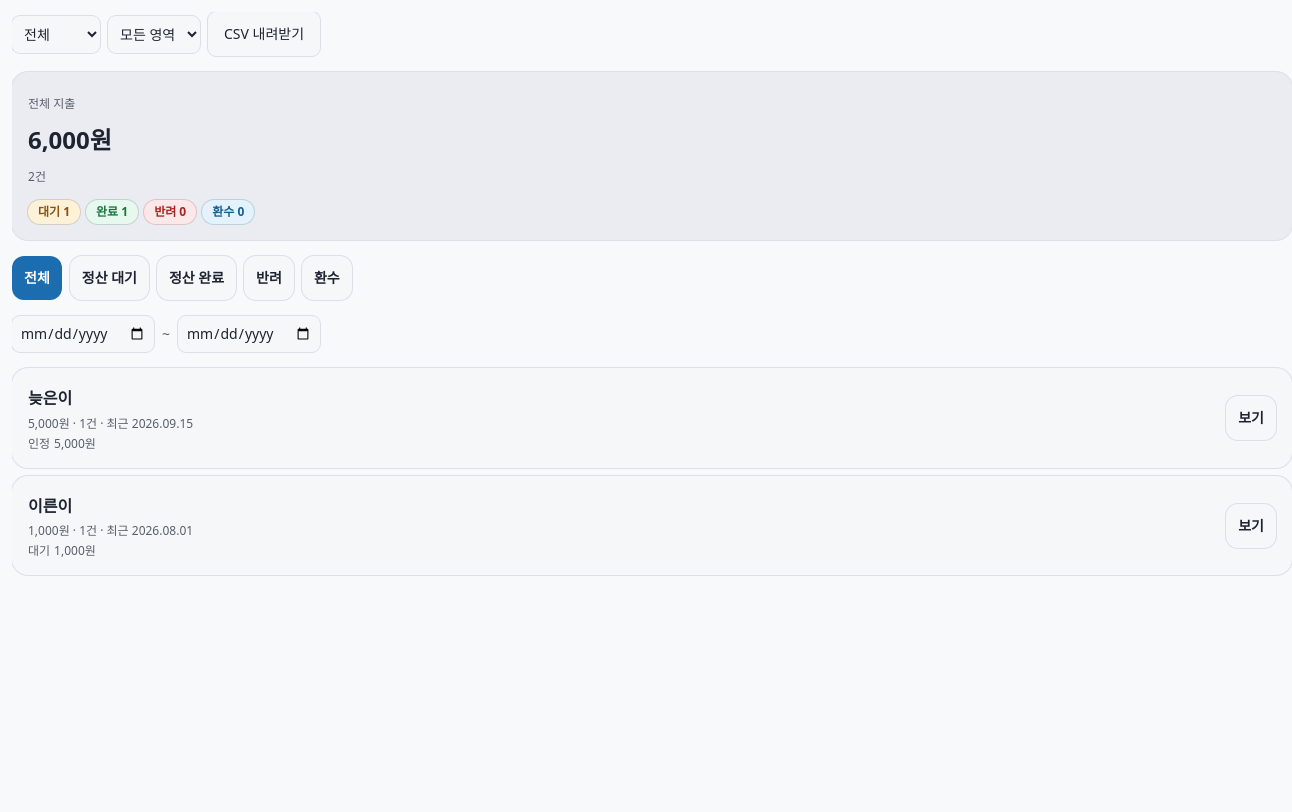
it: OrgLedgerClient — 기간 필터 + 참여자 상태 내역 (A4) › 시작일을 설정하면 그 이전 지출만 있는 참여자가 사라진다
Expected: the text "이른이" is shown, [28,495,72,517]
Step 1. Type "2026-09-01" into the date field named "시작일" → (83, 334), box [12,316,154,352]
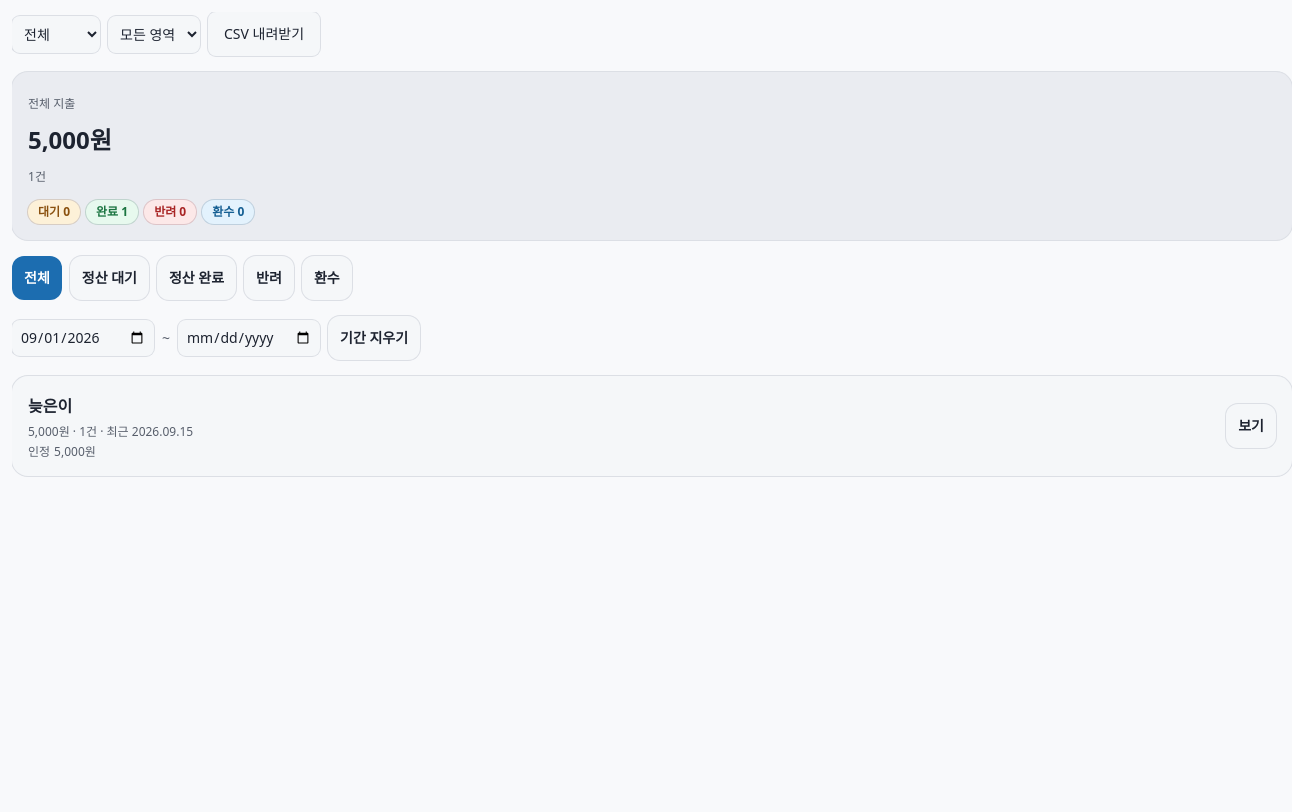
Expected: the text "늦은이" is shown, [28,395,72,417]
Expected: the button "이른이" is gone
